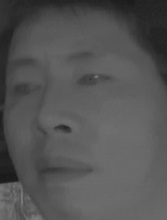eye: (73, 68, 111, 93), (9, 77, 41, 100)
mouth: (27, 149, 94, 191)
